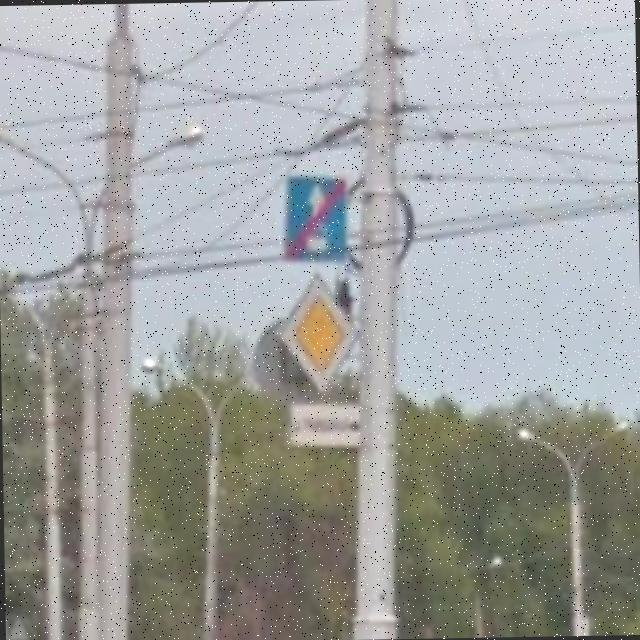Droga z pierwszenstwem: (275, 270, 359, 396)
